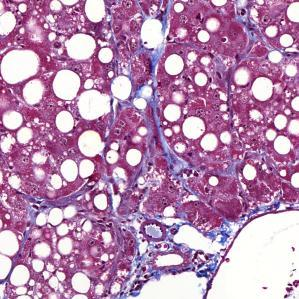fibrosis: (118, 119, 181, 207), (114, 232, 223, 273)
